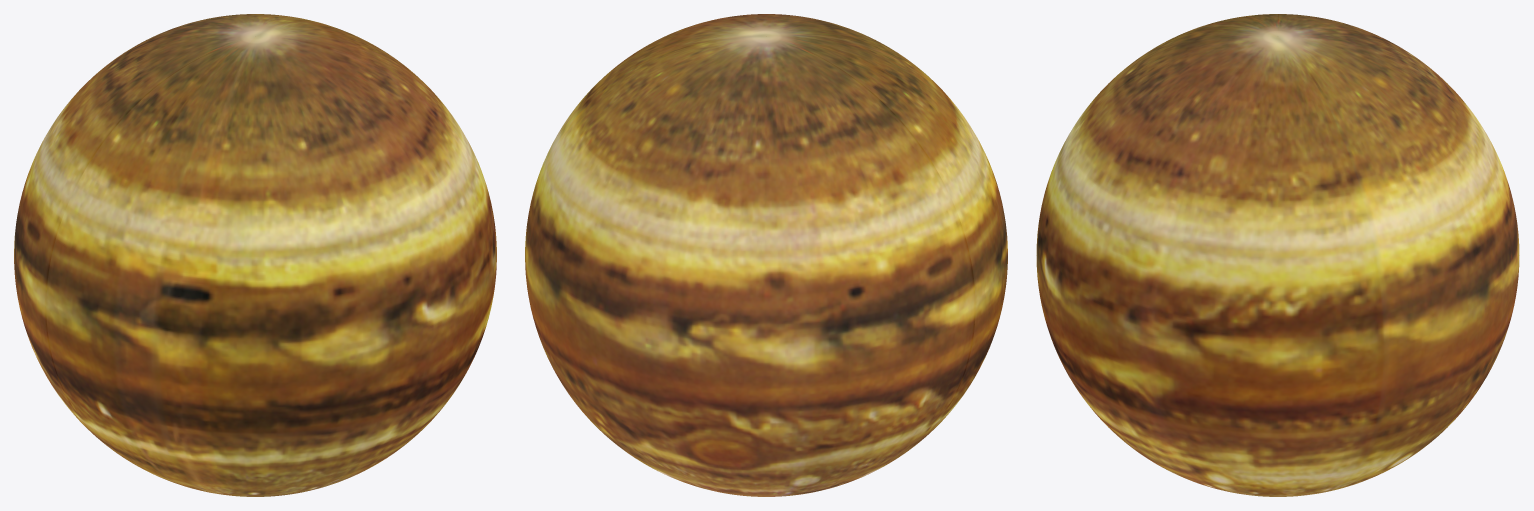
File: 51_Pegasi_b.glb
The picture shows the model from 3 angles, left to right: view 1: azimuth 30°, elevation 25°; view 2: azimuth 150°, elevation 25°; view 3: azimuth 270°, elevation 25°; orthographic projection.
Parts seen in each view (by area): view 1: 51_Pegasi_b; view 2: 51_Pegasi_b; view 3: 51_Pegasi_b.
Part boxes in pixels (x1,y1,x2,y2): 51_Pegasi_b: (14,14,496,496); 51_Pegasi_b: (525,14,1007,496); 51_Pegasi_b: (1036,14,1519,496).
Bounding box in the file's own units: 2 × 2 × 2.
Materials: 1 (1 with a texture image).
